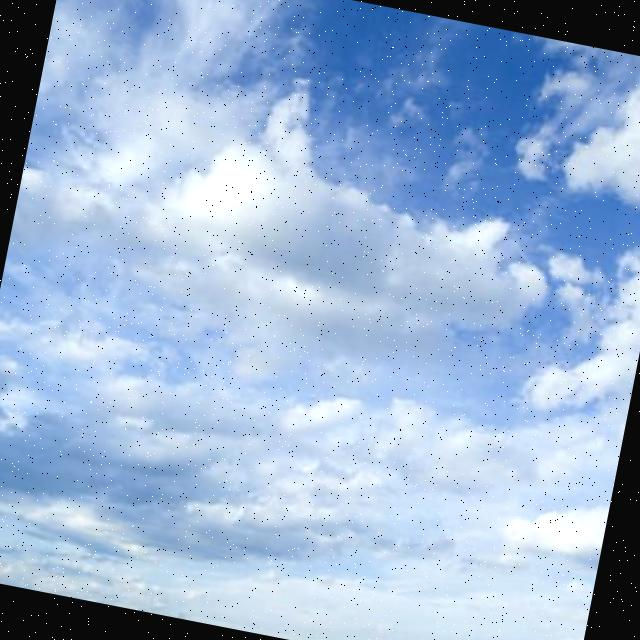Cu: (1, 1, 640, 638)
